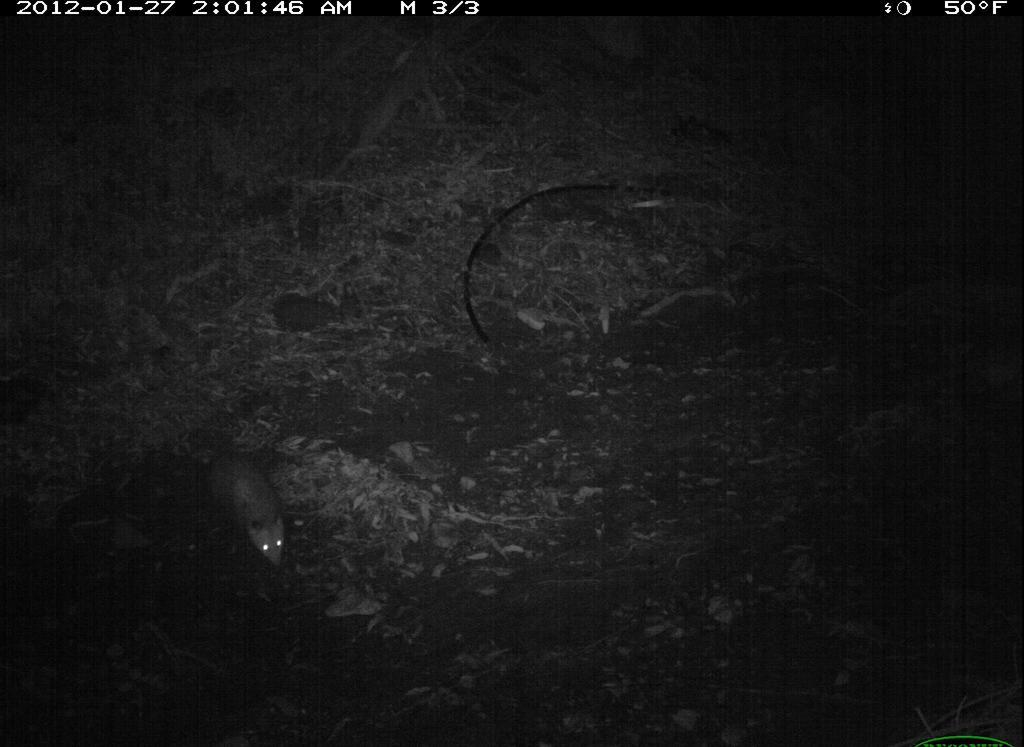opossum: (199, 450, 295, 571)
